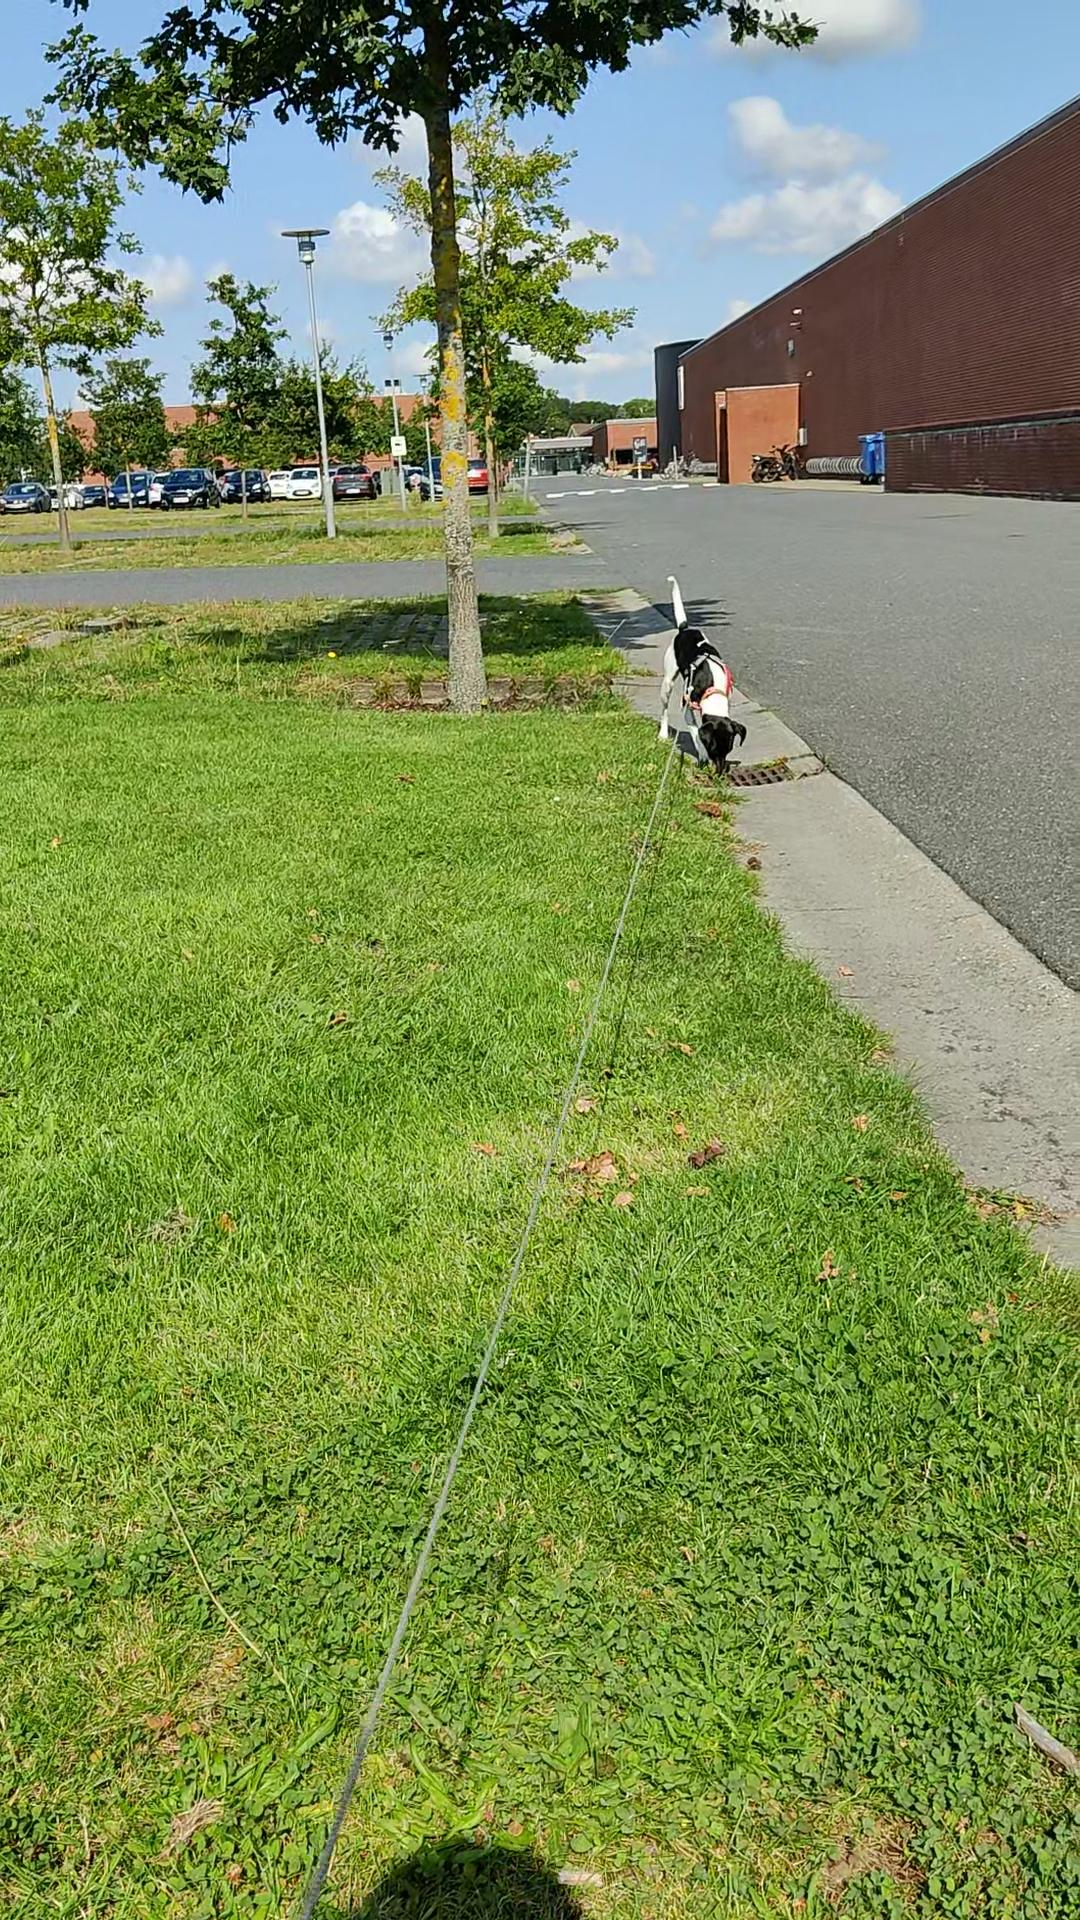Dog: (630, 560, 762, 781)
